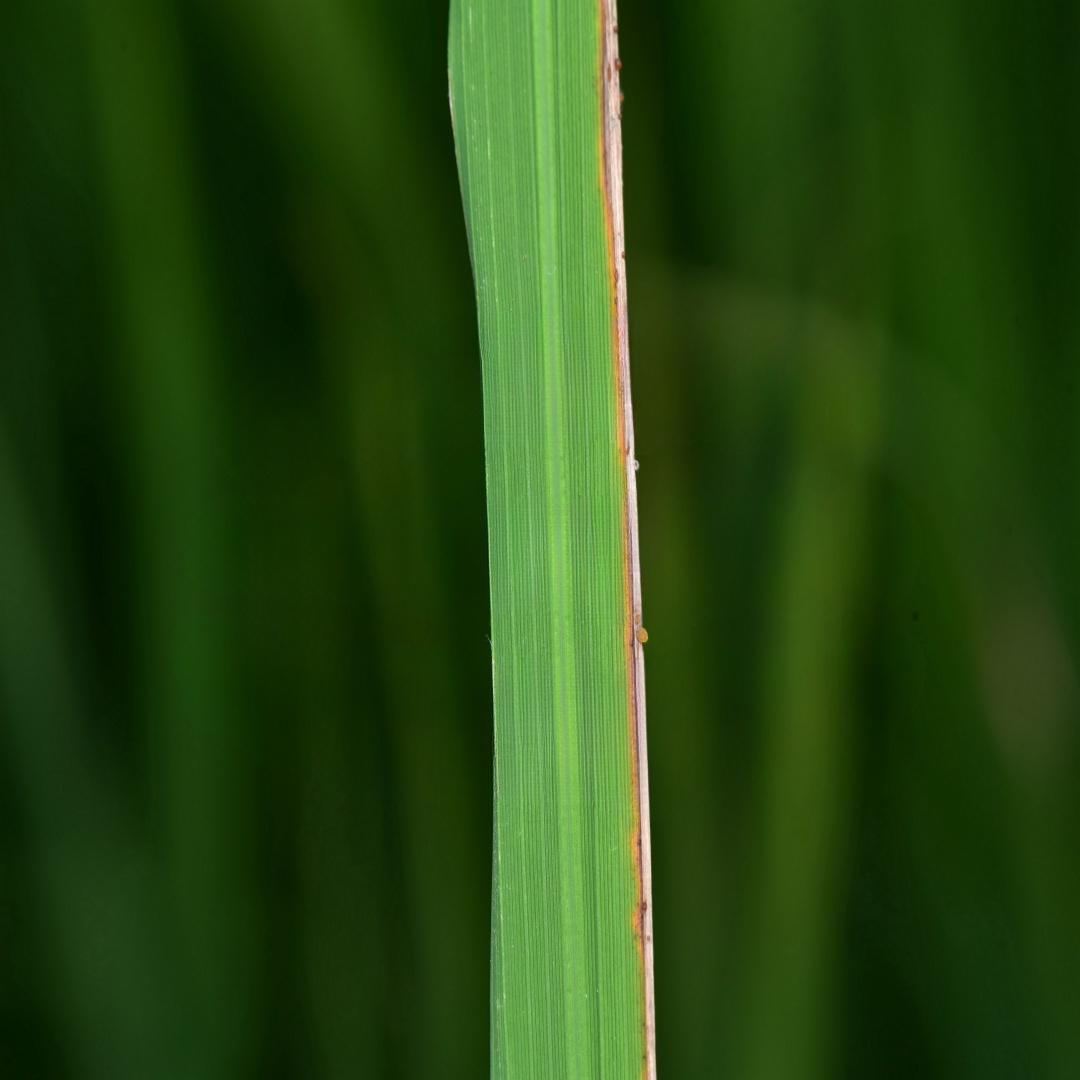BLB: (600, 0, 656, 1079)
